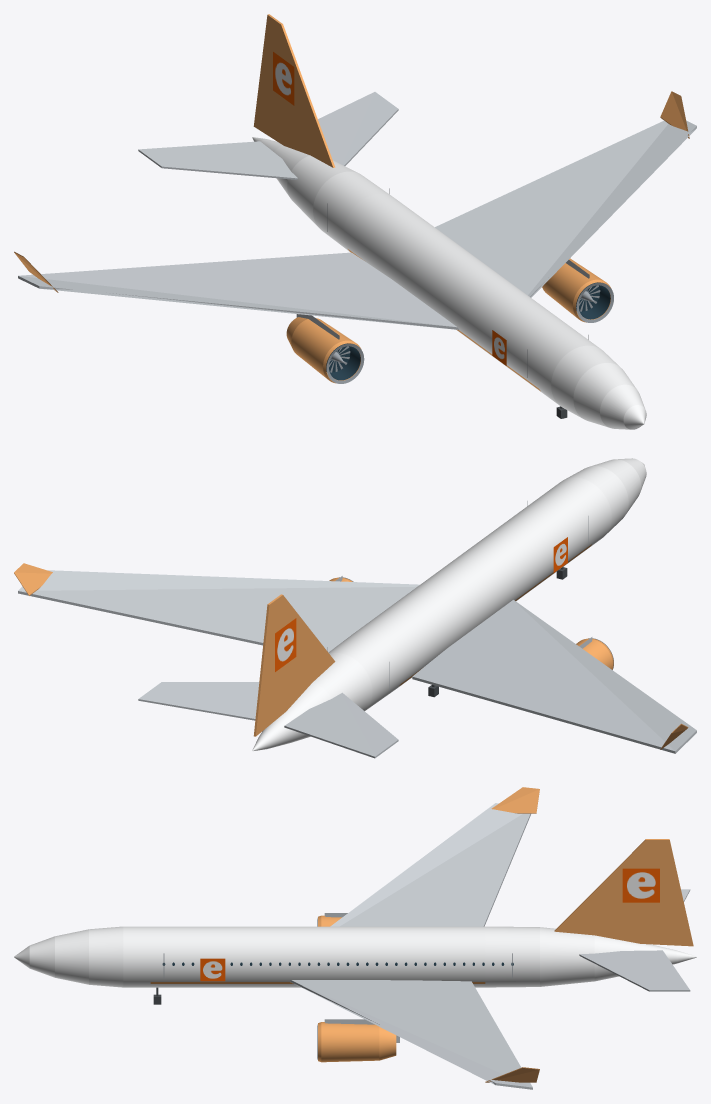
File: a350-EZY-v3.gltf
The picture shows the model from 3 angles, top to bottom: view 1: azimuth 30°, elevation 25°; view 2: azimuth 150°, elevation 25°; view 3: azimuth 270°, elevation 25°; orthographic projection. The views are drawn at different scales.
Parts seen in each view (by area): view 1: object 1; view 2: object 1; view 3: object 1.
Boxes of the visible parts, x1=… form: object 1: x1=14, y1=14, x2=696, y2=429; object 1: x1=14, y1=458, x2=696, y2=758; object 1: x1=14, y1=787, x2=696, y2=1089.
Bounding box in the file's own units: 65 × 18.14 × 67.
Materials: 8 (1 with a texture image).
